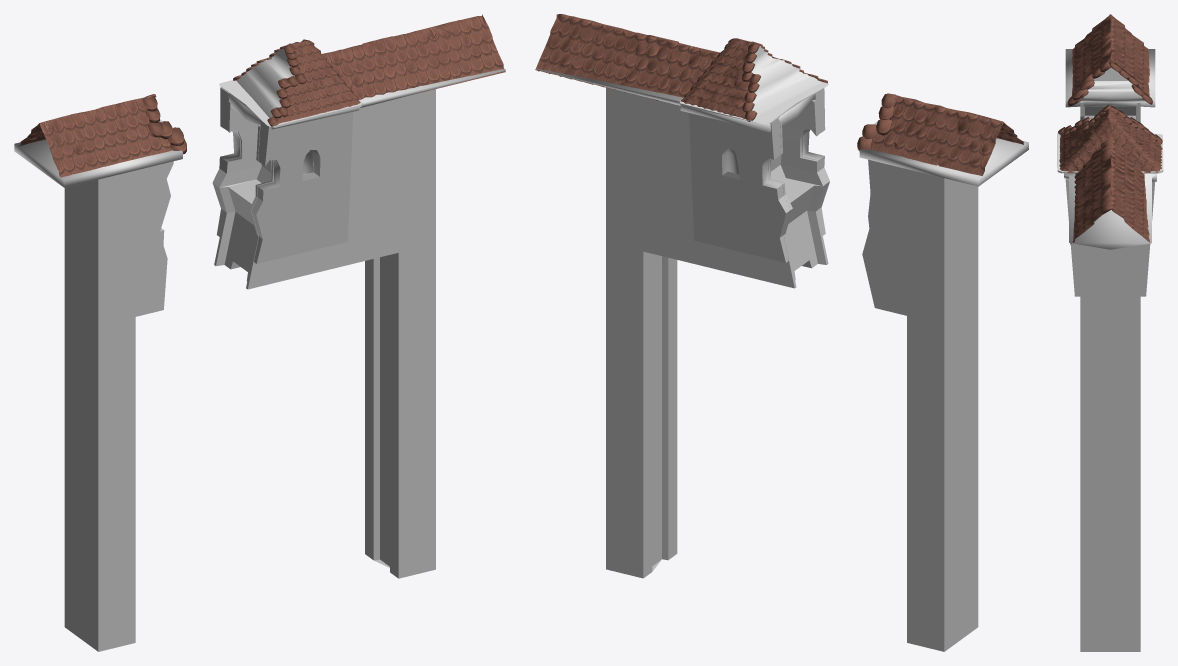
Rendered from bricks_bridge_lod3.fbx.
The picture shows the model from 3 angles, left to right: view 1: azimuth 30°, elevation 25°; view 2: azimuth 150°, elevation 25°; view 3: azimuth 270°, elevation 25°; orthographic projection. The views are drawn at different scales.
Visible parts, largest first — view 1: Lod3_middle_bricks_bridge; view 2: Lod3_middle_bricks_bridge; view 3: Lod3_middle_bricks_bridge, Plane.130.
Boxes of the visible parts, x1=… form: Lod3_middle_bricks_bridge: x1=14, y1=14, x2=505, y2=651; Lod3_middle_bricks_bridge: x1=535, y1=14, x2=1028, y2=651; Lod3_middle_bricks_bridge: x1=1057, y1=14, x2=1163, y2=651; Plane.130: x1=1080, y1=67, x2=1145, y2=102.
Size of the model in its own units: 1143 by 1341 by 264.
